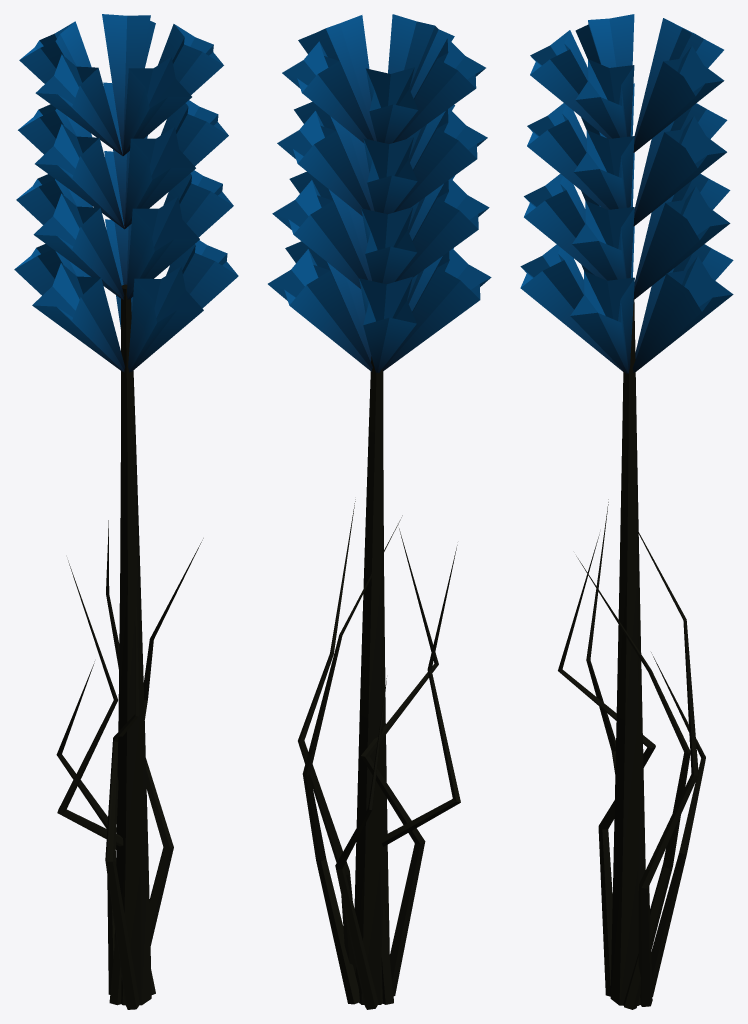
File: Plant-S-2.fbx
3 views of the same model, side by side, from view 1: azimuth 30°, elevation 25°; view 2: azimuth 150°, elevation 25°; view 3: azimuth 270°, elevation 25° (orthographic).
Parts seen in each view (by area): view 1: OUT-Plant; view 2: OUT-Plant; view 3: OUT-Plant.
Part boxes in pixels (bbox=[...]): OUT-Plant: bbox=[14, 14, 238, 1009]; OUT-Plant: bbox=[268, 14, 491, 1009]; OUT-Plant: bbox=[520, 14, 733, 1009].
Bounding box in the file's own units: 0.0662 × 0.3117 × 0.063.
